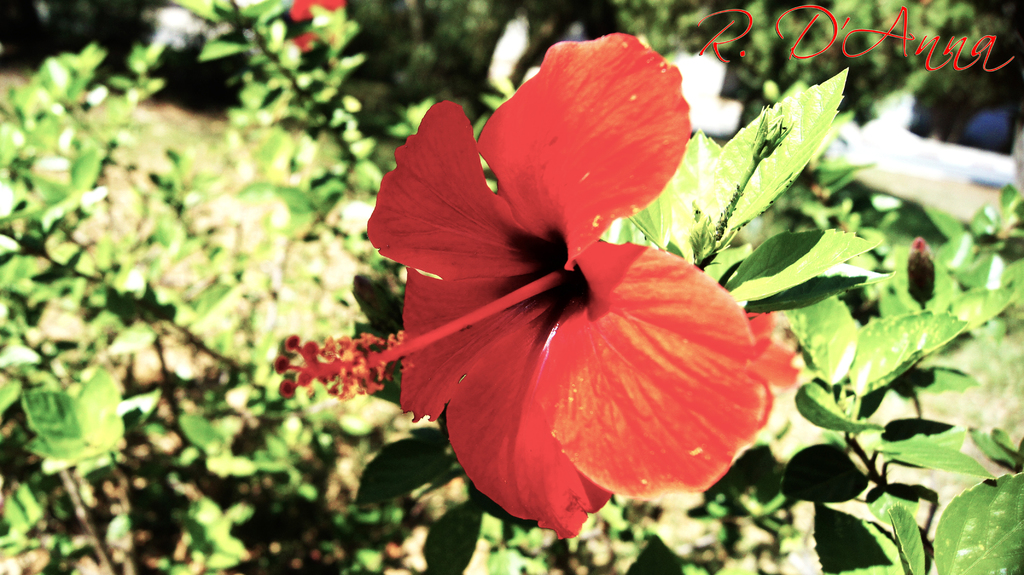Tree: (0, 0, 1024, 573)
